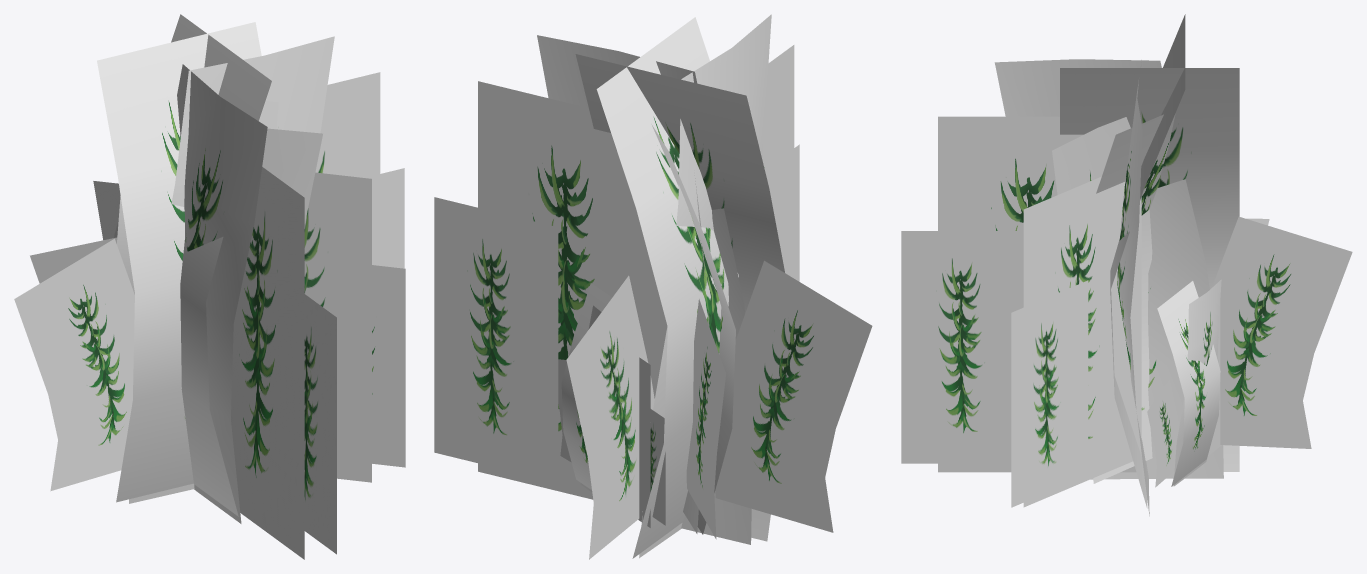
The model's file is Grass_6.fbx.
3 views of the same model, side by side, from view 1: azimuth 30°, elevation 25°; view 2: azimuth 150°, elevation 25°; view 3: azimuth 270°, elevation 25° (orthographic). The views are drawn at different scales.
Parts seen in each view (by area): view 1: 雑草A; view 2: 雑草A; view 3: 雑草A.
Boxes of the visible parts, <box> form: 雑草A: <box>14,14,405,559</box>; 雑草A: <box>434,14,872,559</box>; 雑草A: <box>901,14,1352,516</box>.
Size of the model in its own units: 2.67 by 2.8 by 2.67.
1 material, 1 textured.
